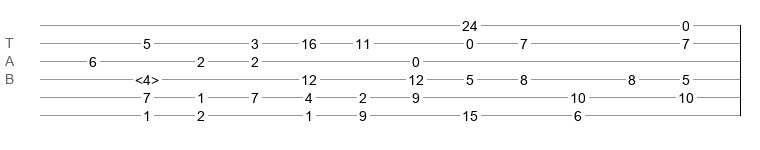0: (412, 54, 420, 64), (466, 36, 474, 46), (682, 18, 690, 28)
1: (143, 108, 151, 118), (197, 90, 205, 100), (305, 108, 313, 118)
10: (570, 90, 586, 100), (678, 90, 694, 100)
11: (355, 36, 371, 46)
12: (301, 72, 317, 82), (408, 72, 424, 82)
15: (462, 108, 478, 118)
16: (301, 36, 317, 46)
2: (197, 108, 205, 118), (197, 54, 205, 64), (251, 54, 259, 64), (359, 90, 367, 100)
24: (462, 18, 478, 28)
3: (251, 36, 259, 46)
4: (305, 90, 313, 100)
5: (143, 36, 151, 46), (466, 72, 474, 82), (682, 72, 690, 82)
6: (89, 54, 97, 64), (574, 108, 582, 118)
7: (143, 90, 151, 100), (251, 90, 259, 100), (520, 36, 528, 46), (682, 36, 690, 46)
8: (520, 72, 528, 82), (628, 72, 636, 82)
9: (359, 108, 367, 118), (412, 90, 420, 100)
harmonic: (135, 72, 159, 82)
